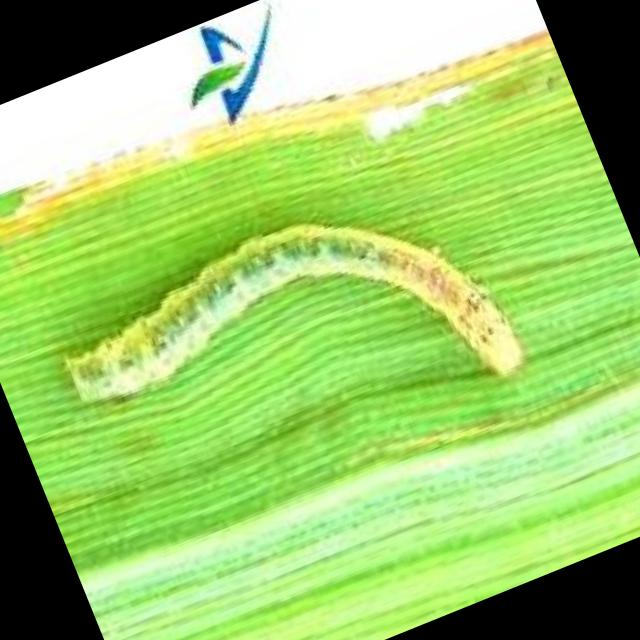leaf-folder: (27, 141, 538, 549)
